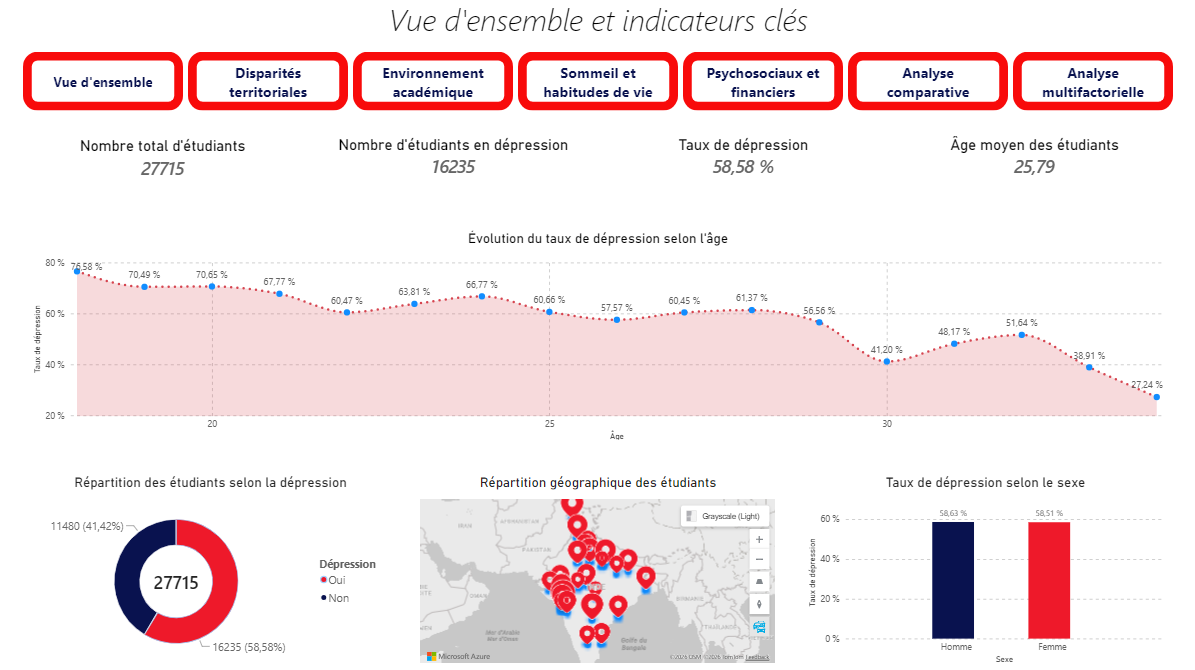

The dashboard page shown, as its layout file describes it:
{"tool":"powerbi","page":{"name":"Vue d'ensemble","canvas":[1920,1080],"ordinal":0},"visuals":[{"type":"cardVisual","fields":{"Data":["Données des étudiants.Nombre total d'étudiants"]},"box":[40,180,445,150],"z":0},{"type":"cardVisual","fields":{"Data":["Données des étudiants.Nombre d'étudiants en dépression"]},"box":[505,180,445,150],"z":1000},{"type":"cardVisual","fields":{"Data":["Données des étudiants.Taux de dépression"]},"box":[970,180,445,150],"z":2000},{"type":"cardVisual","fields":{"Data":["Données des étudiants.Âge moyen des étudiants"]},"box":[1435,180,445,150],"z":3000},{"type":"lineChart","title":"Évolution du taux de dépression selon l''âge","fields":{"Category":["Données des étudiants.Âge"],"Y":["Données des étudiants.Taux de dépression"]},"box":[40,357.5,1840,365],"z":4000},{"type":"clusteredColumnChart","title":"Taux de dépression selon le sexe","fields":{"Category":["Données des étudiants.Sexe"],"Y":["Données des étudiants.Taux de dépression"]},"box":[1280,748,600,332],"z":5000},{"type":"donutChart","title":"Répartition des étudiants selon la dépression","fields":{"Category":["Données des étudiants.Dépression"],"Y":["Données des étudiants.Nombre total d'étudiants"]},"box":[40,748,600,332],"z":6000},{"type":"azureMap","title":"Répartition géographique des étudiants","fields":{"Category":["Données des étudiants.Localisation géographique"],"Size":["Données des étudiants.Nombre total d'étudiants"]},"box":[660,748,600,332],"z":7000},{"type":"pageNavigator","box":[40,86,1840,94],"z":8000},{"type":"textbox","box":[0,0,1920,86],"z":9000}]}

Visuals, with their boxes in screenshot pixels (x1, y1, x2, y2), scaled from the page's 1920x1080 canvas onto the 1195x670 screenshot:
cardVisual - Données des étudiants.Nombre total d'étudiants: pyautogui.locateOnScreen(25, 112, 302, 205)
cardVisual - Données des étudiants.Nombre d'étudiants en dépression: pyautogui.locateOnScreen(314, 112, 591, 205)
cardVisual - Données des étudiants.Taux de dépression: pyautogui.locateOnScreen(604, 112, 881, 205)
cardVisual - Données des étudiants.Âge moyen des étudiants: pyautogui.locateOnScreen(893, 112, 1170, 205)
"Évolution du taux de dépression selon l''âge" lineChart: pyautogui.locateOnScreen(25, 222, 1170, 448)
"Taux de dépression selon le sexe" clusteredColumnChart: pyautogui.locateOnScreen(797, 464, 1170, 669)
"Répartition des étudiants selon la dépression" donutChart: pyautogui.locateOnScreen(25, 464, 398, 669)
"Répartition géographique des étudiants" azureMap: pyautogui.locateOnScreen(411, 464, 784, 669)
pageNavigator: pyautogui.locateOnScreen(25, 53, 1170, 112)
textbox: pyautogui.locateOnScreen(0, 0, 1194, 53)
